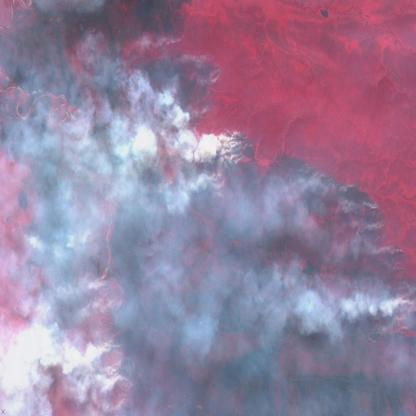fire: (290, 153, 416, 340), (153, 54, 257, 200), (92, 263, 132, 416), (33, 335, 64, 372), (77, 218, 100, 249)
